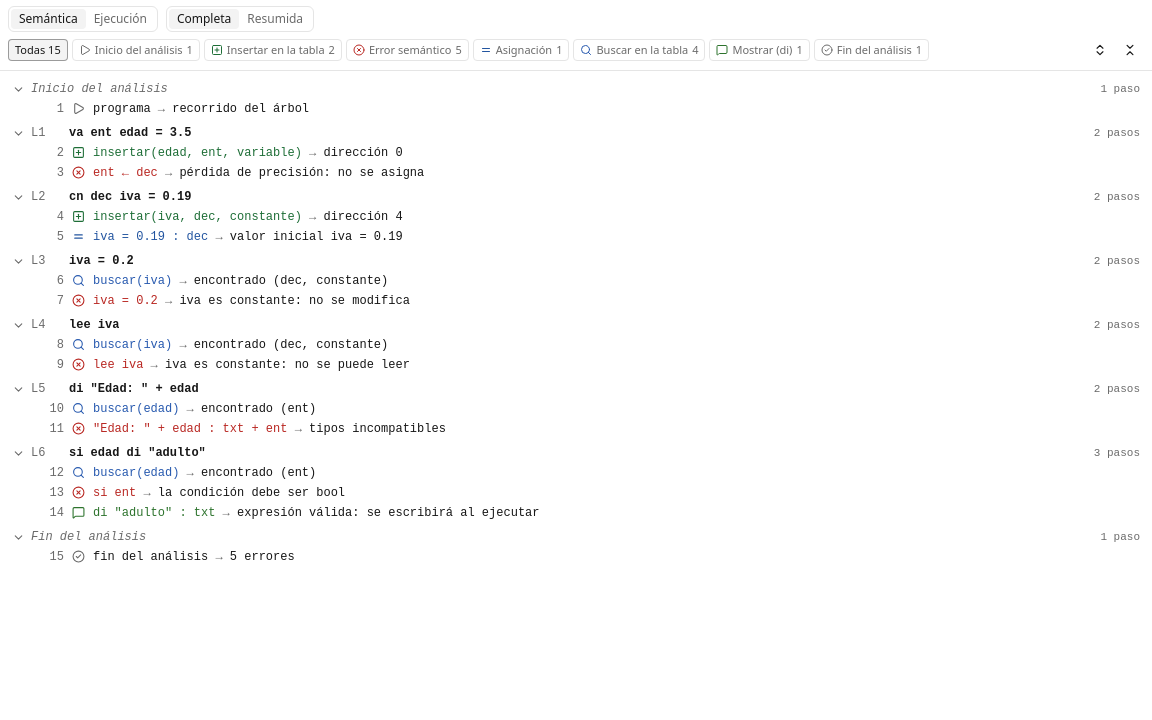
Test: traza agrupada por instrucción (T4) › el filtro deja ver una sola acción, con su cuenta
Later steps or results of the test are not shown.
Click the button "Error semántico 5" at (407, 50), box [346, 39, 469, 61]
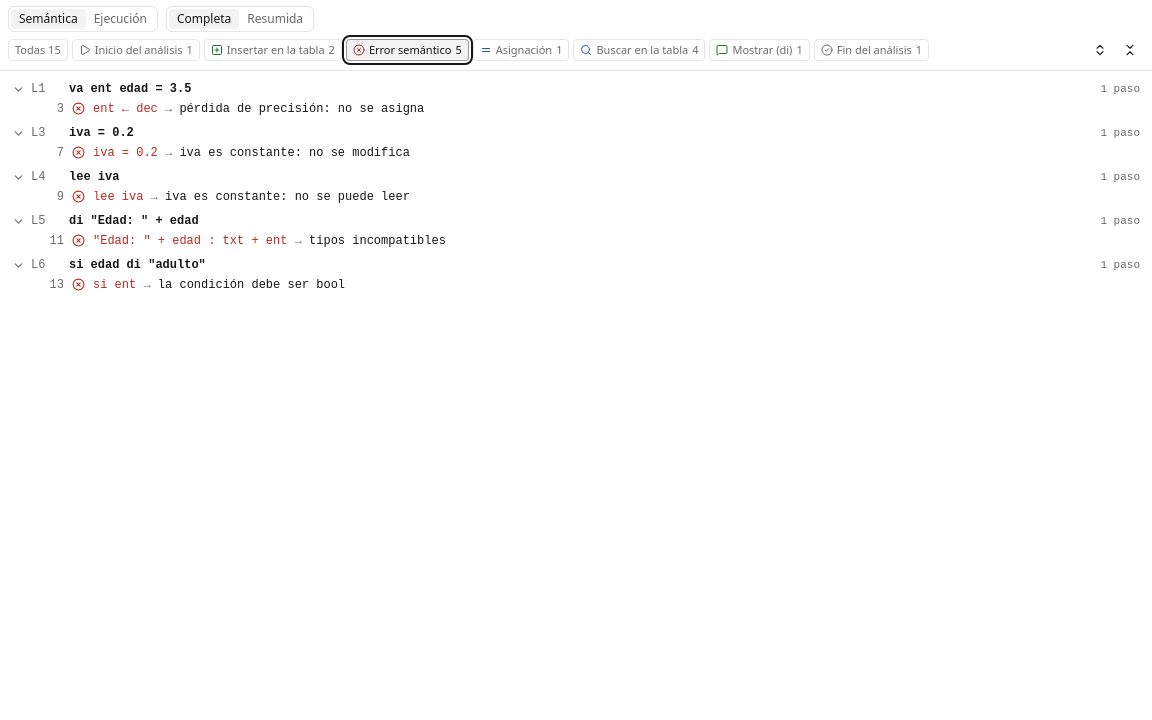
Expected: the button "Error semántico 5" is pressed, [346, 39, 469, 61]
